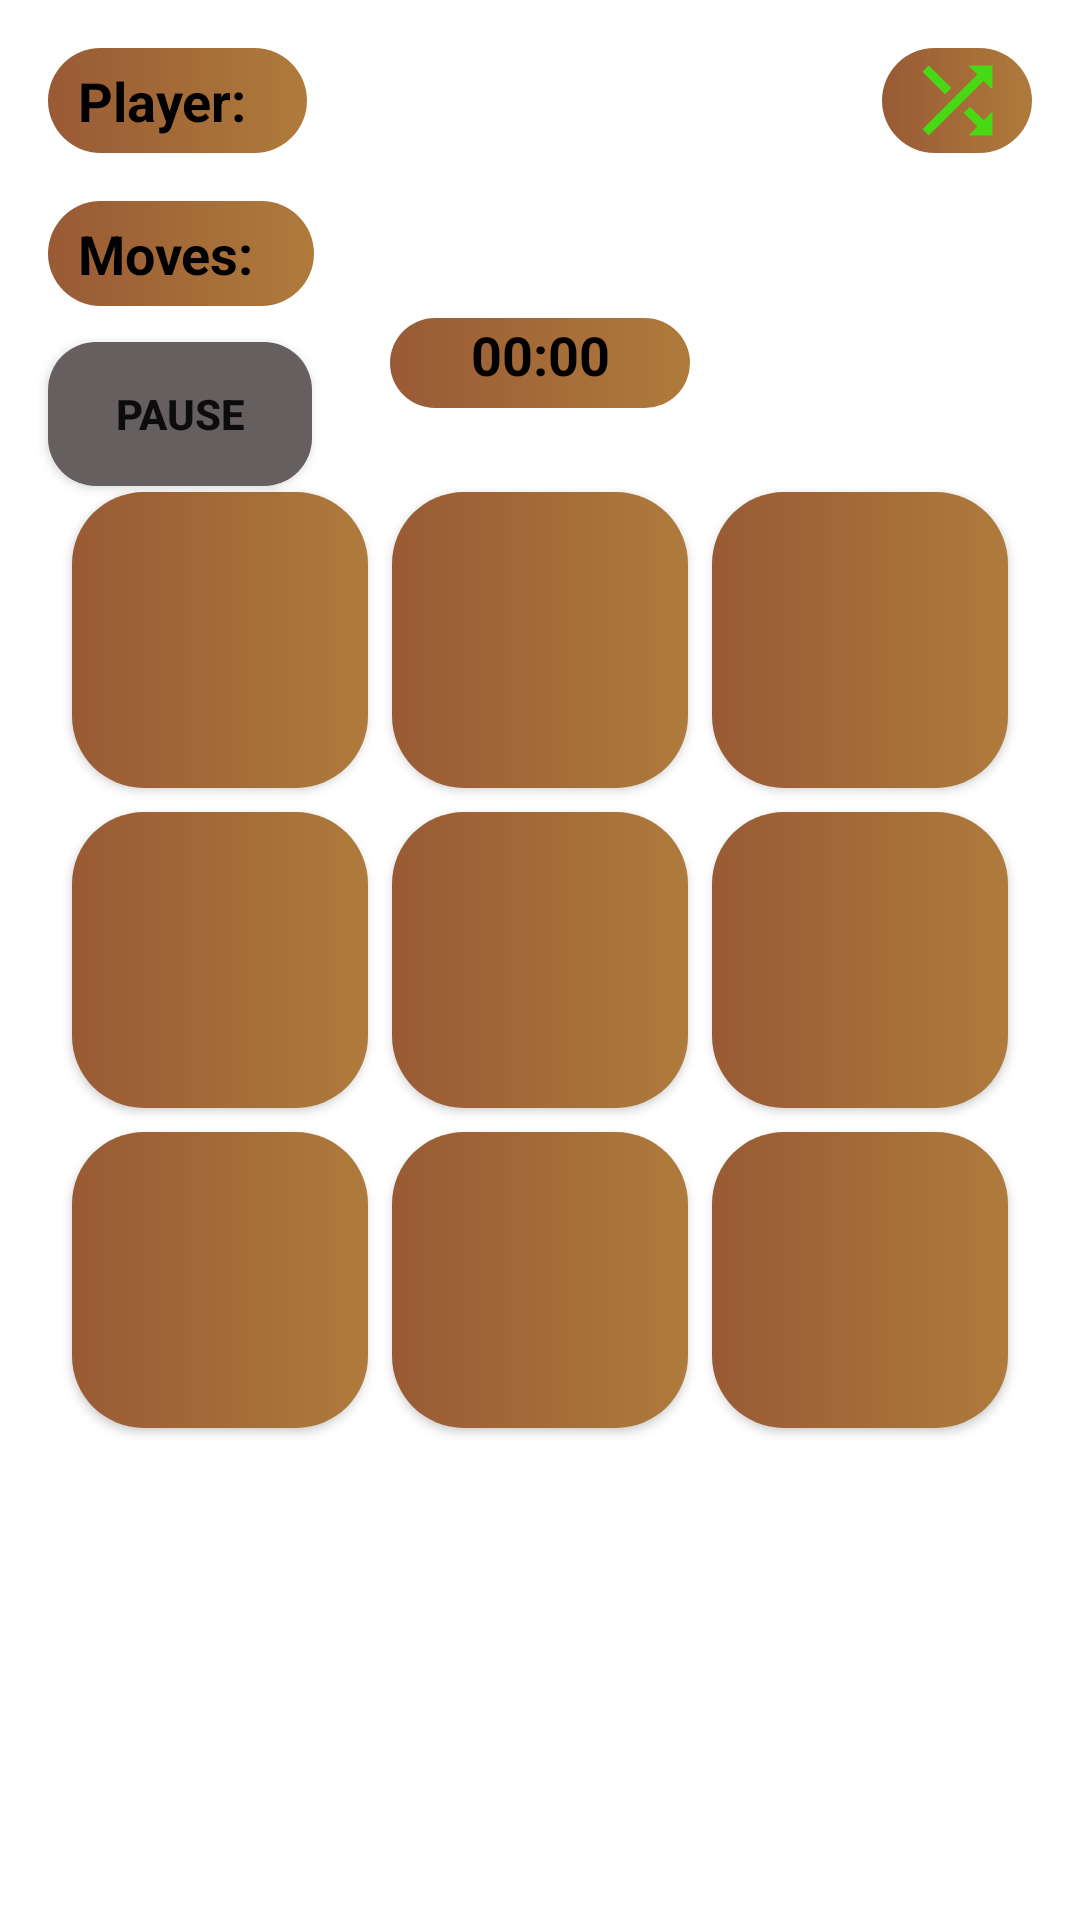

Screen size 1080px x 1920px. Icon name, then its box in pixels as bbox=[x1, y1, x2, y2]:
shuffle: bbox=[882, 48, 1032, 153]
